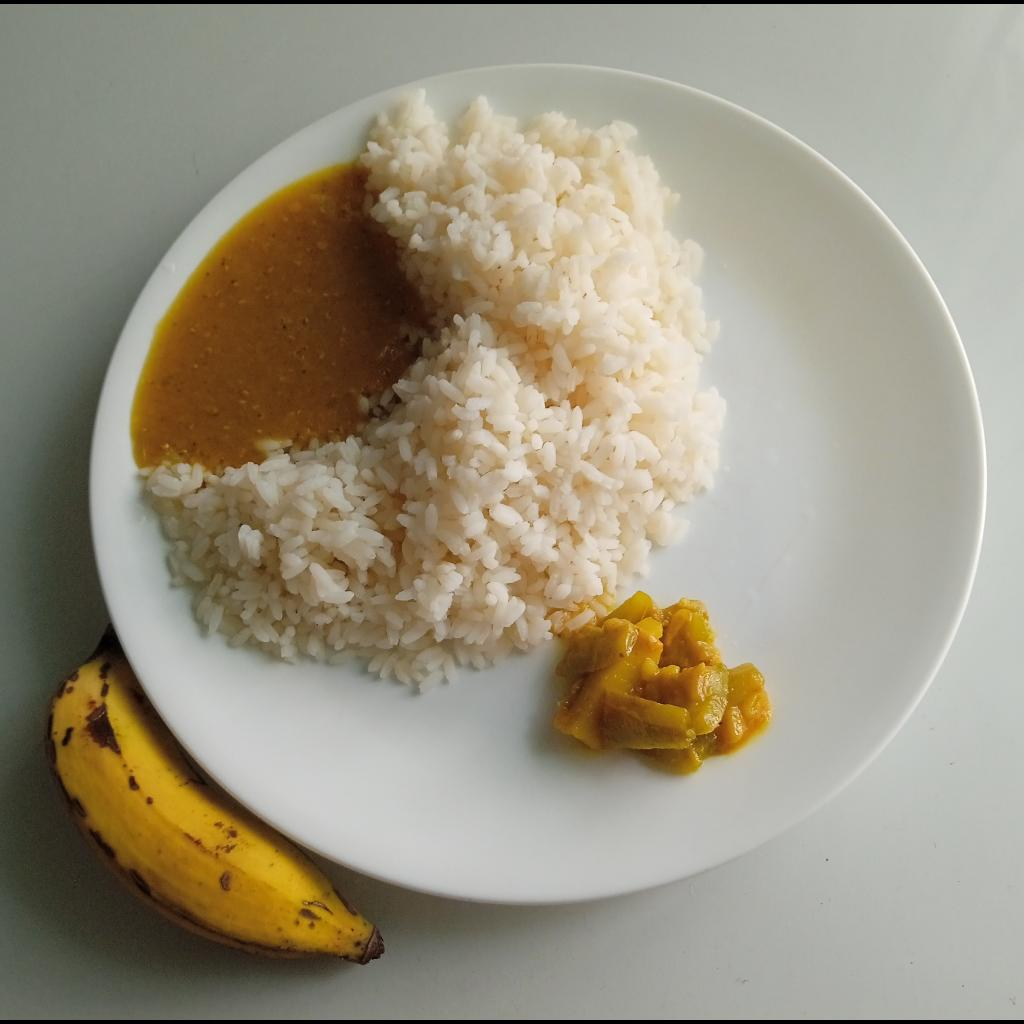banana: (41, 624, 389, 968)
daal: (137, 172, 418, 468)
potol: (547, 588, 776, 774)
rice: (135, 86, 725, 694)
